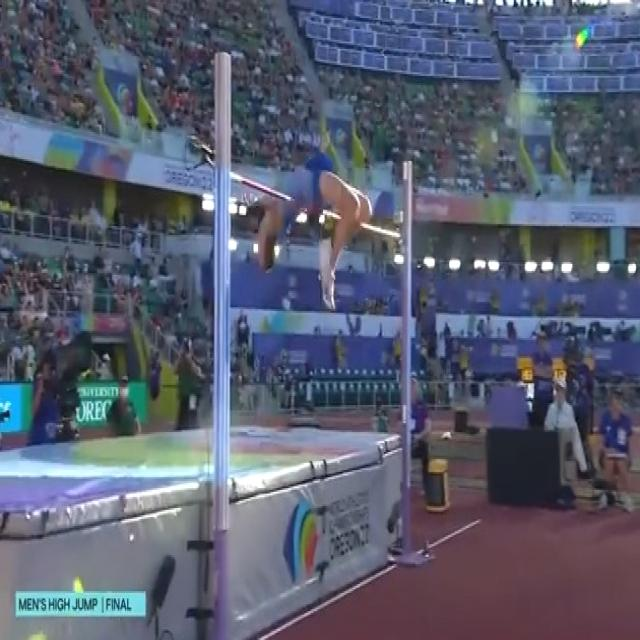jump: (250, 153, 372, 312)
